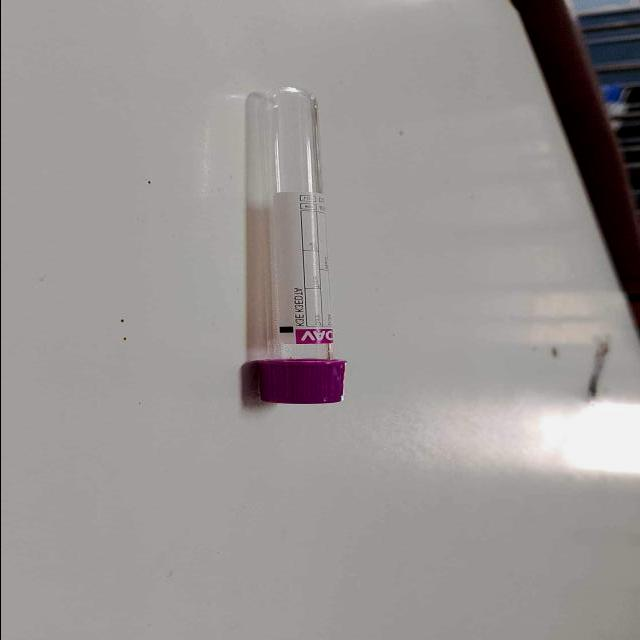Sharps: (243, 86, 347, 407)
